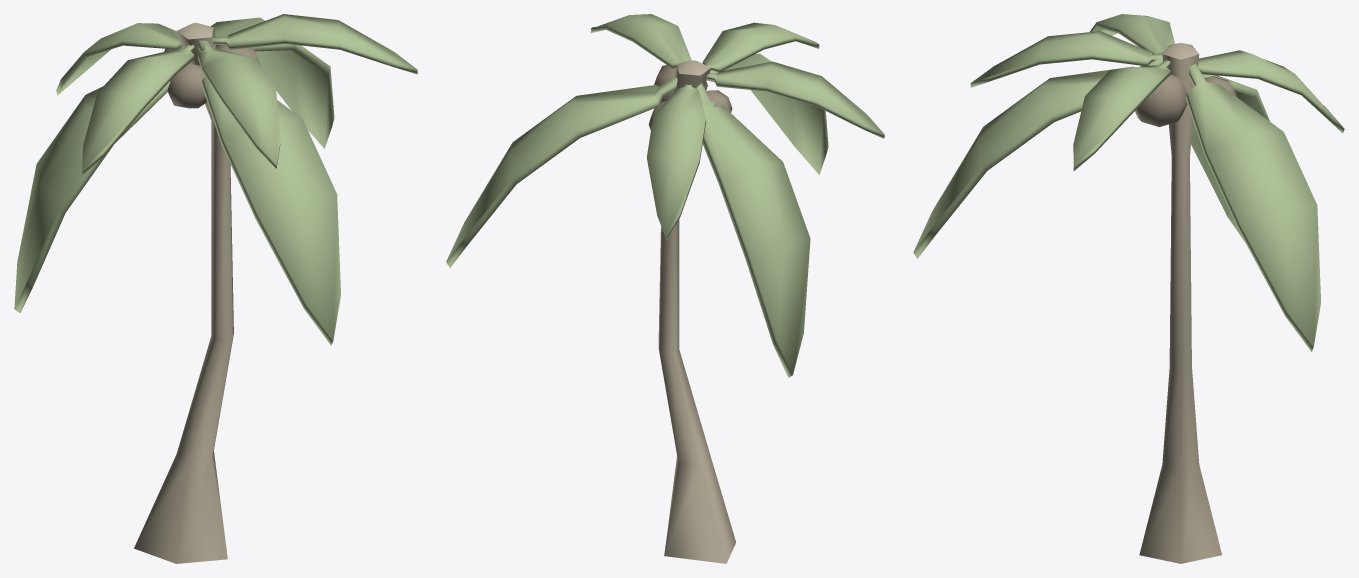
3 renders of one model, left to right at view 1: azimuth 30°, elevation 25°; view 2: azimuth 150°, elevation 25°; view 3: azimuth 270°, elevation 25°, orthographic. The views are drawn at different scales.
Parts seen in each view (by area): view 1: Coconut_tree; view 2: Coconut_tree; view 3: Coconut_tree.
Boxes of the visible parts, box(x1,y1,x2,y2) form: Coconut_tree: box(14, 14, 417, 563); Coconut_tree: box(446, 14, 884, 563); Coconut_tree: box(913, 14, 1344, 563).
Size of the model in its own units: 238 by 335 by 255.
